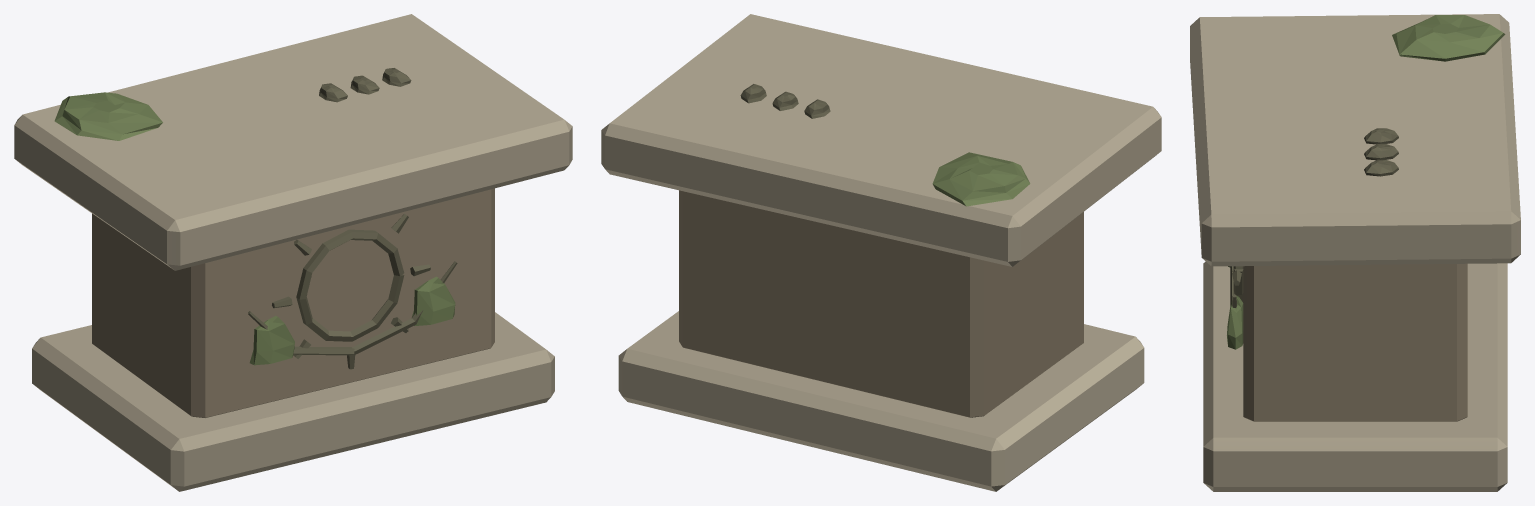
Rendered from sunleaf-altar.glb.
3 views of the same model, side by side, from view 1: azimuth 30°, elevation 25°; view 2: azimuth 150°, elevation 25°; view 3: azimuth 270°, elevation 25° (orthographic). The views are drawn at different scales.
Parts seen in each view (by area): view 1: sunleaf-altar; view 2: sunleaf-altar; view 3: sunleaf-altar.
Part boxes in pixels (bbox=[...]): sunleaf-altar: bbox=[14, 14, 572, 491]; sunleaf-altar: bbox=[601, 14, 1161, 491]; sunleaf-altar: bbox=[1190, 14, 1520, 491].
Size of the model in its own units: 1.98 by 1.33 by 1.33.
